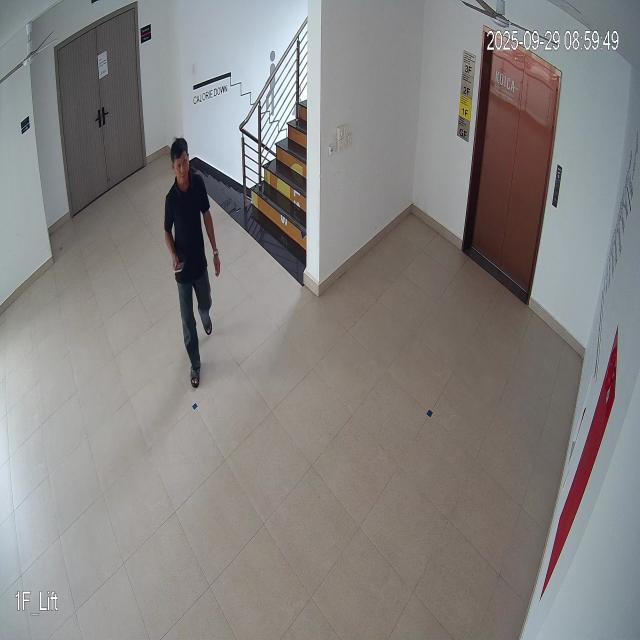face: (170, 136, 194, 188)
